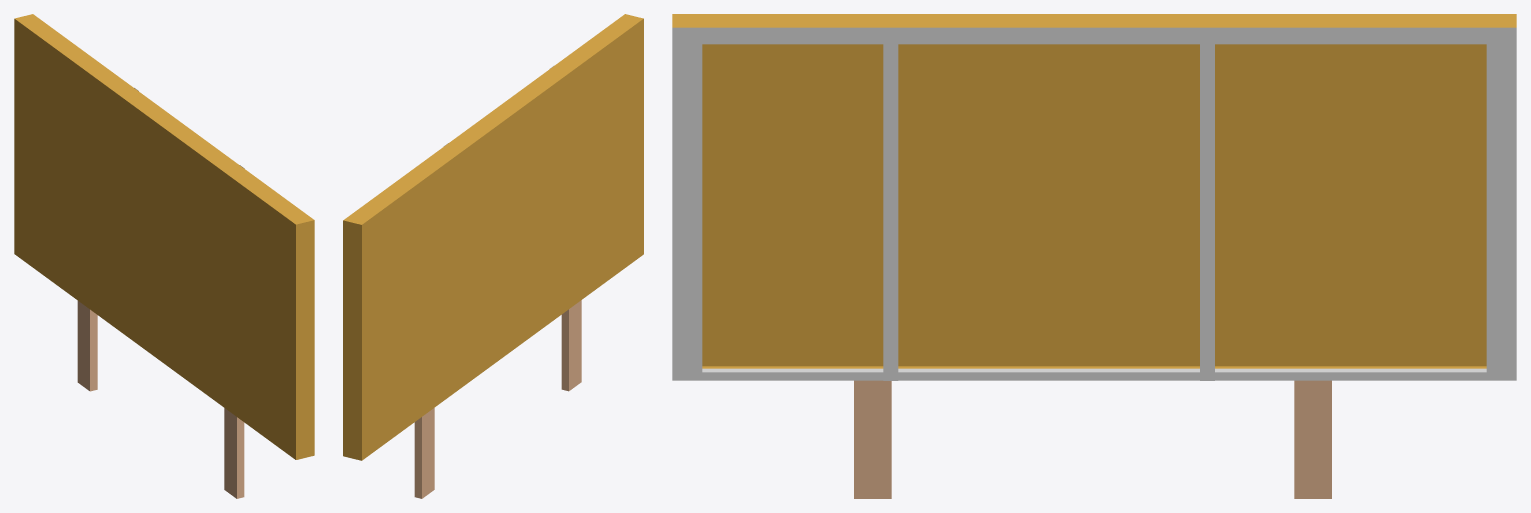
The model's file is Board.fbx.
3 views of the same model, side by side, from view 1: azimuth 30°, elevation 25°; view 2: azimuth 150°, elevation 25°; view 3: azimuth 270°, elevation 25° (orthographic). The views are drawn at different scales.
Parts seen in each view (by area): view 1: MainBoard, LeftLeg, RightLeg; view 2: MainBoard, RightLeg, LeftLeg; view 3: MainBoard, LeftLeg, RightLeg.
Boxes of the visible parts, x1,y1,x2,y2 form: MainBoard: (14, 14, 314, 459); LeftLeg: (77, 301, 97, 391); RightLeg: (224, 408, 244, 498); MainBoard: (343, 14, 643, 460); RightLeg: (561, 300, 581, 391); LeftLeg: (414, 408, 434, 498); MainBoard: (672, 14, 1516, 380); LeftLeg: (1294, 380, 1331, 498); RightLeg: (854, 380, 891, 498).
Bounding box in the file's own units: 50.86 × 813 × 1300.
